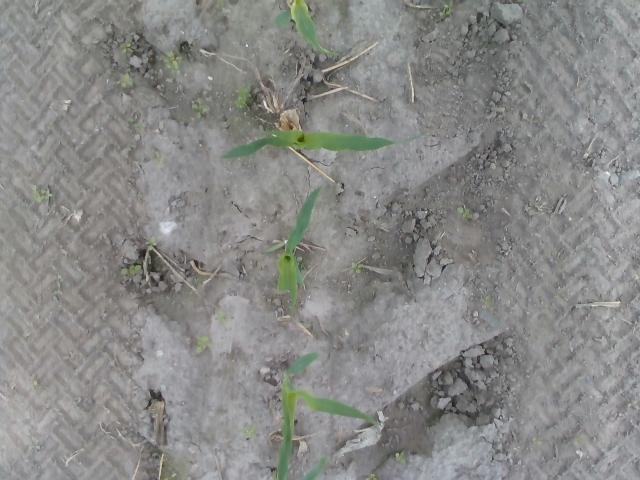Maize: (275, 350, 380, 480), (264, 182, 320, 305), (222, 128, 423, 162), (270, 0, 342, 57)
Weeds: (235, 80, 256, 110), (163, 50, 185, 70), (32, 184, 54, 203), (191, 100, 209, 118), (120, 262, 142, 276), (194, 334, 210, 353), (242, 424, 260, 440), (393, 450, 410, 466), (439, 0, 453, 17), (120, 72, 134, 89), (49, 271, 62, 288), (456, 206, 472, 218), (128, 116, 140, 128), (122, 42, 134, 54), (351, 262, 362, 274), (32, 374, 40, 390), (146, 236, 158, 246), (214, 312, 226, 322), (366, 472, 380, 480), (164, 473, 178, 480), (482, 296, 492, 305)
